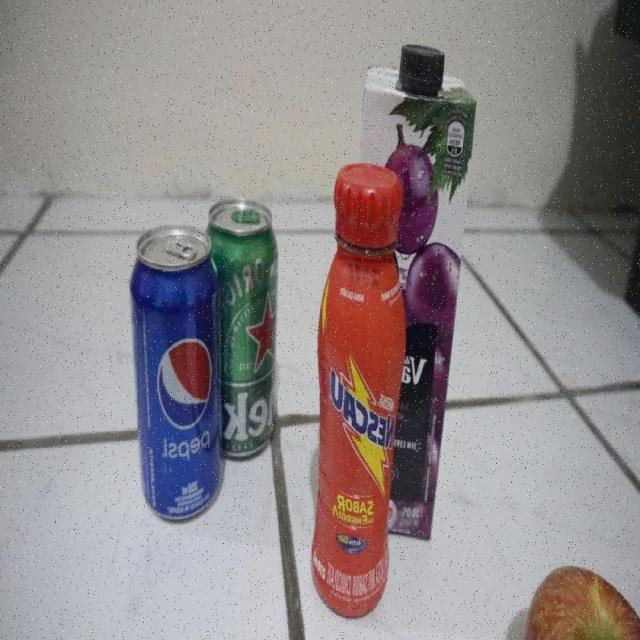Apple: (527, 563, 640, 640)
BeerCan: (218, 192, 282, 459)
ChocolateMilk: (306, 163, 403, 619)
SodaCan: (126, 222, 215, 522)
